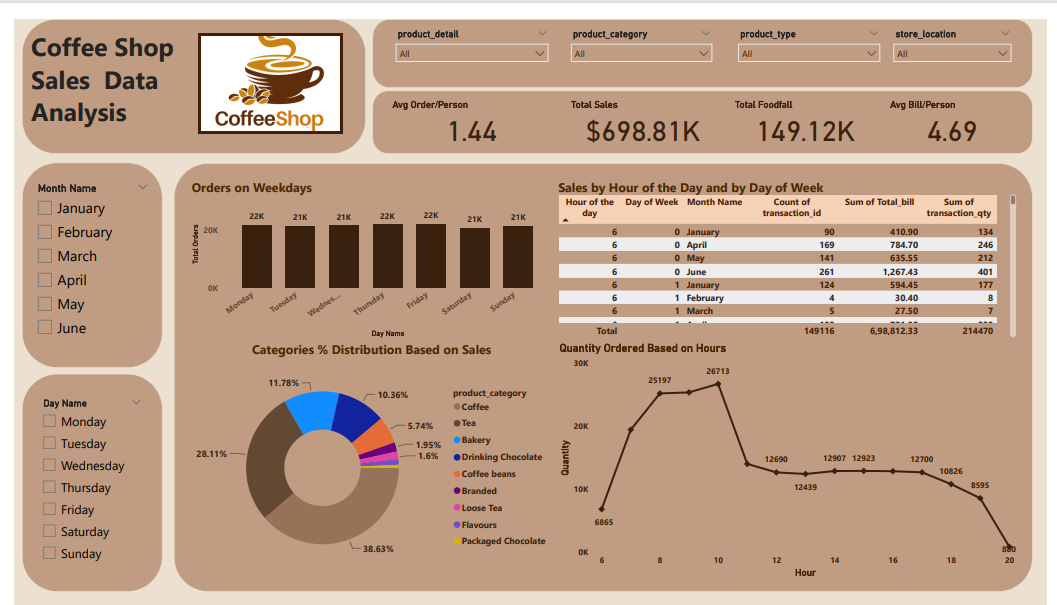

This screenshot's page, from the dashboard's own definition file:
{"tool":"powerbi","page":{"name":"Page 1","canvas":[1550,880],"ordinal":0},"visuals":[{"type":"shape","box":[239.7,215.5,1289.7,643.1],"z":0},{"type":"shape","box":[537.9,106.9,991.4,94.8],"z":1000},{"type":"shape","box":[537.9,0,991.4,103.4],"z":2000},{"type":"shape","box":[12.1,214.8,211.3,308.3],"z":3000},{"type":"shape","box":[12.1,531.8,211.3,327.4],"z":4000},{"type":"tableEx","fields":{"Values":["Transactions.Hour","CountNonNull(Transactions.transaction_id)","Sum(Transactions.Total_bill)","Sum(Transactions.transaction_qty)"]},"box":[262.1,227.6,529.3,241.4],"z":5000},{"type":"lineChart","title":"Quantity Ordered Based on Hours","fields":{"Category":["Transactions.Hour"],"Y":["Sum(Transactions.transaction_qty)"]},"box":[813.8,482.8,694.8,360.3],"z":6000},{"type":"slicer","fields":{"Values":["Transactions.Day Name"]},"box":[31.2,563,171.5,265],"z":7000},{"type":"slicer","fields":{"Values":["Transactions.Month Name"]},"box":[22.5,239.1,190.6,259.8],"z":8000},{"type":"slicer","fields":{"Values":["Transactions.product_category"]},"box":[826.3,8.7,232.1,78],"z":9000},{"type":"slicer","fields":{"Values":["Transactions.product_type"]},"box":[1077.5,8.7,218.3,78],"z":10000},{"type":"slicer","fields":{"Values":["Transactions.store_location"]},"box":[1309.6,8.7,197.5,78],"z":11000},{"type":"donutChart","title":"Categories % Distribution Based on Sales","fields":{"Category":["Transactions.product_category"],"Y":["Sum(Transactions.Total_bill)"]},"box":[261.6,483.3,528.3,360.3],"z":12000},{"type":"card","title":"Total Sales","fields":{"Values":["Transactions.Sales"]},"box":[831.5,119.5,226.9,72.8],"z":13000},{"type":"card","title":"Total Foodfall","fields":{"Values":["Transactions.Foodfall"]},"box":[1077.5,119.5,221.7,72.8],"z":14000},{"type":"card","title":"Avg Bill/Person","fields":{"Values":["Transactions.Measure"]},"box":[1309.6,119.5,197.5,72.8],"z":15000},{"type":"card","title":"Avg Order/Person","fields":{"Values":["Transactions.Average_Order"]},"box":[563,119.5,249.4,72.8],"z":16000},{"type":"slicer","fields":{"Values":["Transactions.product_detail"]},"box":[563,8.7,249.4,78],"z":17000},{"type":"columnChart","title":"Orders on Weekdays","fields":{"Category":["Transactions.Day Name"],"Y":["CountNonNull(Transactions.transaction_id)"]},"box":[813.8,227.6,694.8,241.4],"z":18000},{"type":"shape","box":[12.1,0,515.5,201.7],"z":19000},{"type":"textbox","box":[20.7,10.3,241.4,181],"z":20000},{"type":"image","box":[275.9,20.7,217.2,151.7],"z":21000}]}

Visuals, with their boxes in screenshot pixels (x1, y1, x2, y2), scaled from the page's 1550x880 canvas onto the 1057x605 screenshot:
shape: box=[163, 148, 1043, 590]
shape: box=[367, 73, 1043, 139]
shape: box=[367, 0, 1043, 71]
shape: box=[8, 148, 152, 360]
shape: box=[8, 366, 152, 591]
tableEx - Transactions.Hour x CountNonNull(Transactions.transaction_id): box=[179, 156, 540, 322]
"Quantity Ordered Based on Hours" lineChart: box=[555, 332, 1029, 580]
slicer - Transactions.Day Name: box=[21, 387, 138, 569]
slicer - Transactions.Month Name: box=[15, 164, 145, 343]
slicer - Transactions.product_category: box=[563, 6, 722, 60]
slicer - Transactions.product_type: box=[735, 6, 884, 60]
slicer - Transactions.store_location: box=[893, 6, 1028, 60]
"Categories % Distribution Based on Sales" donutChart: box=[178, 332, 539, 580]
"Total Sales" card: box=[567, 82, 722, 132]
"Total Foodfall" card: box=[735, 82, 886, 132]
"Avg Bill/Person" card: box=[893, 82, 1028, 132]
"Avg Order/Person" card: box=[384, 82, 554, 132]
slicer - Transactions.product_detail: box=[384, 6, 554, 60]
"Orders on Weekdays" columnChart: box=[555, 156, 1029, 322]
shape: box=[8, 0, 360, 139]
textbox: box=[14, 7, 179, 132]
image: box=[188, 14, 336, 119]
